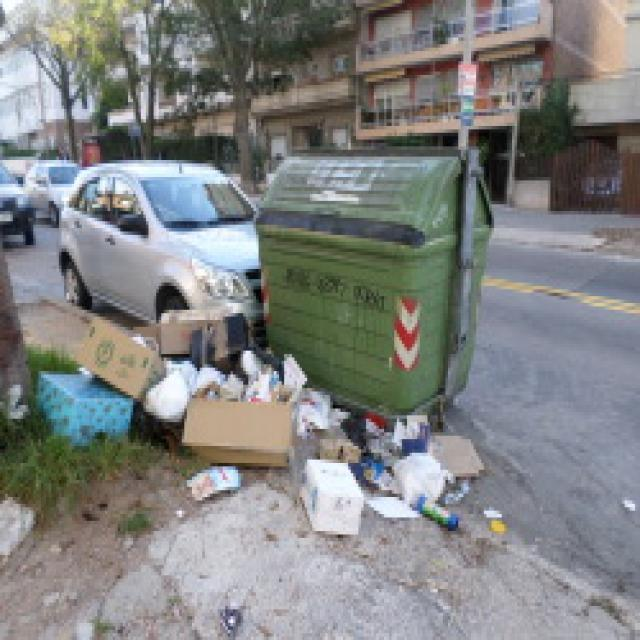garbage: (36, 296, 302, 511), (310, 398, 489, 552), (197, 602, 264, 634)
